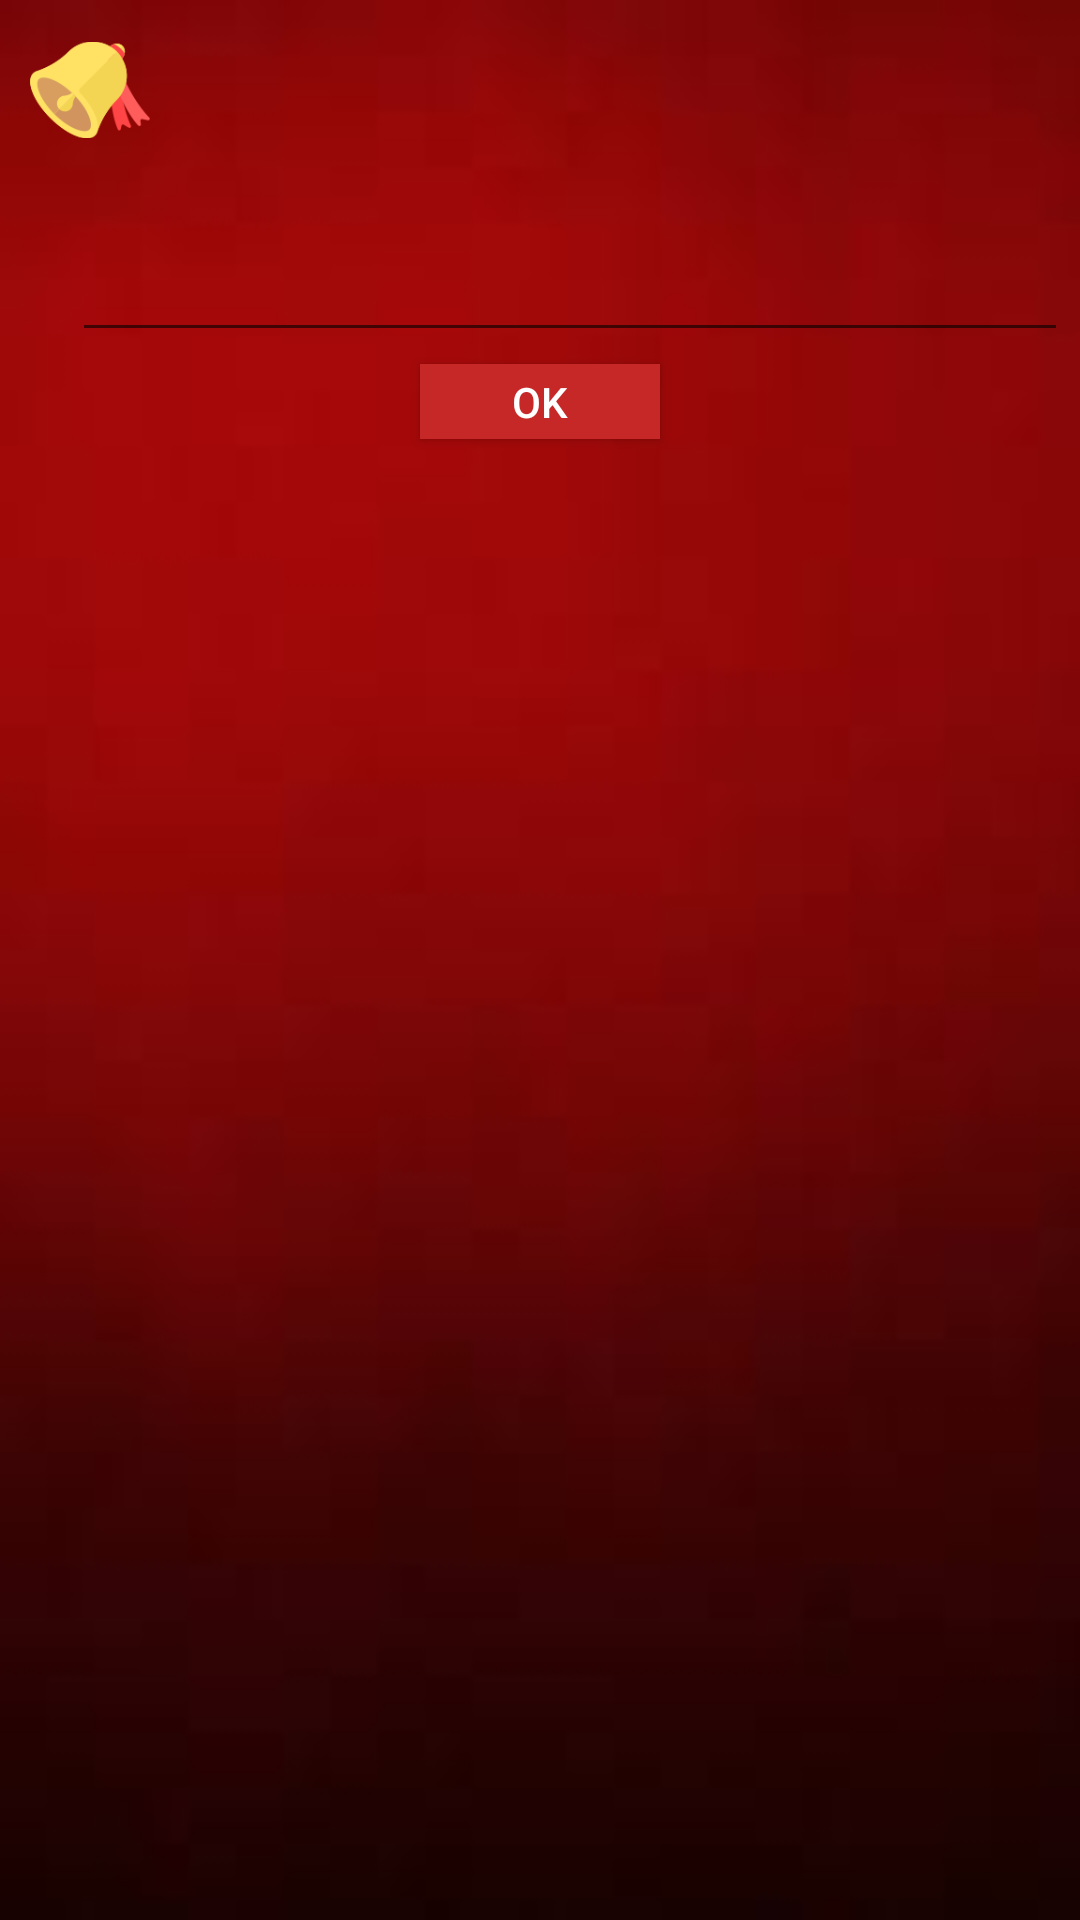

Icons on this 1080x1920 Android screen, each with the point to tap as point (x, y):
bell: point (90, 90)
